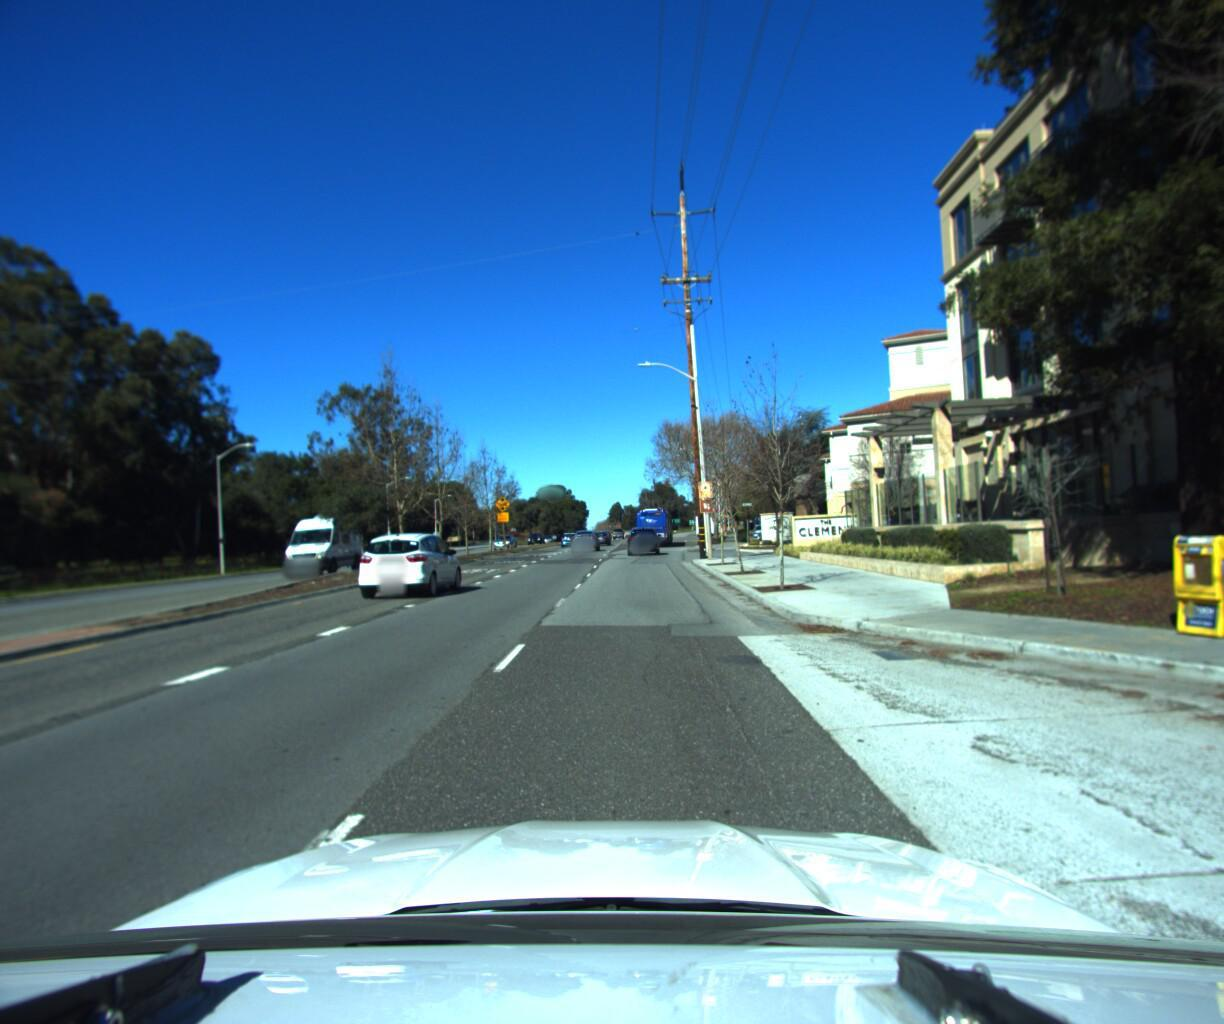bus: (632, 503, 674, 545)
car: (358, 525, 475, 597), (274, 506, 373, 579), (626, 521, 662, 552), (568, 526, 601, 550), (595, 526, 616, 541)
